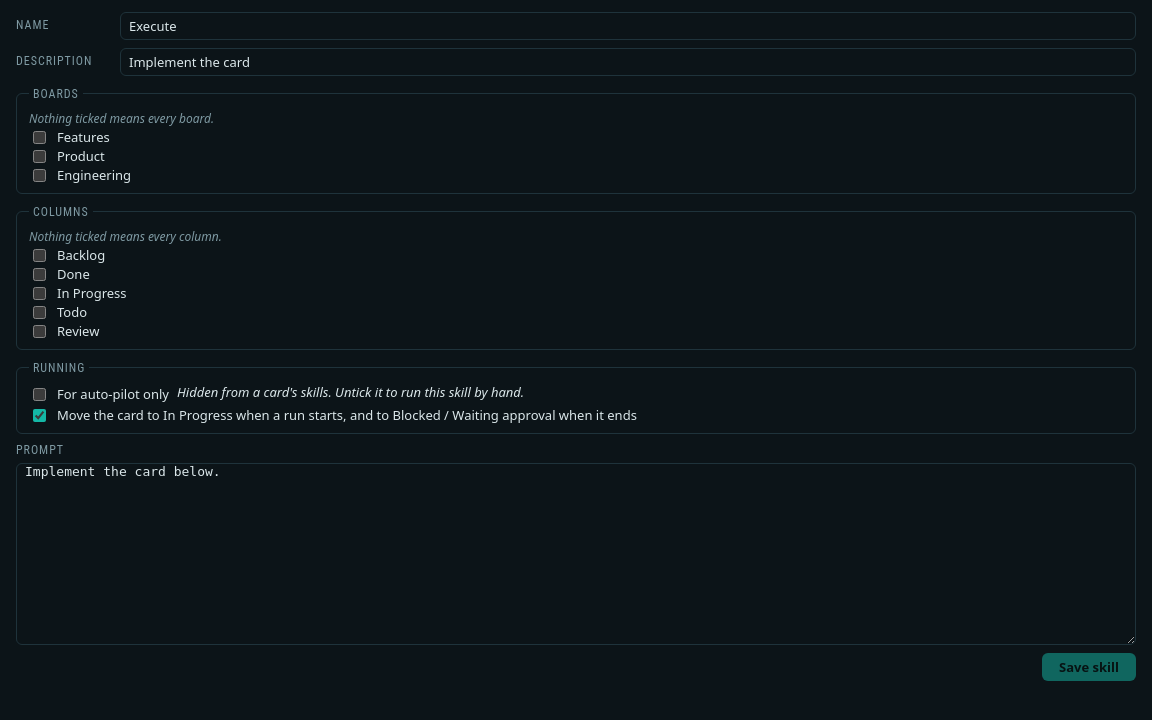
Test: SkillEditor › narrows the columns to the boards that are ticked
The width and height of the screenshot is (1152, 720).
Click the checkbox labelled "Product": (40, 156) x1=33 y1=150 x2=46 y2=163
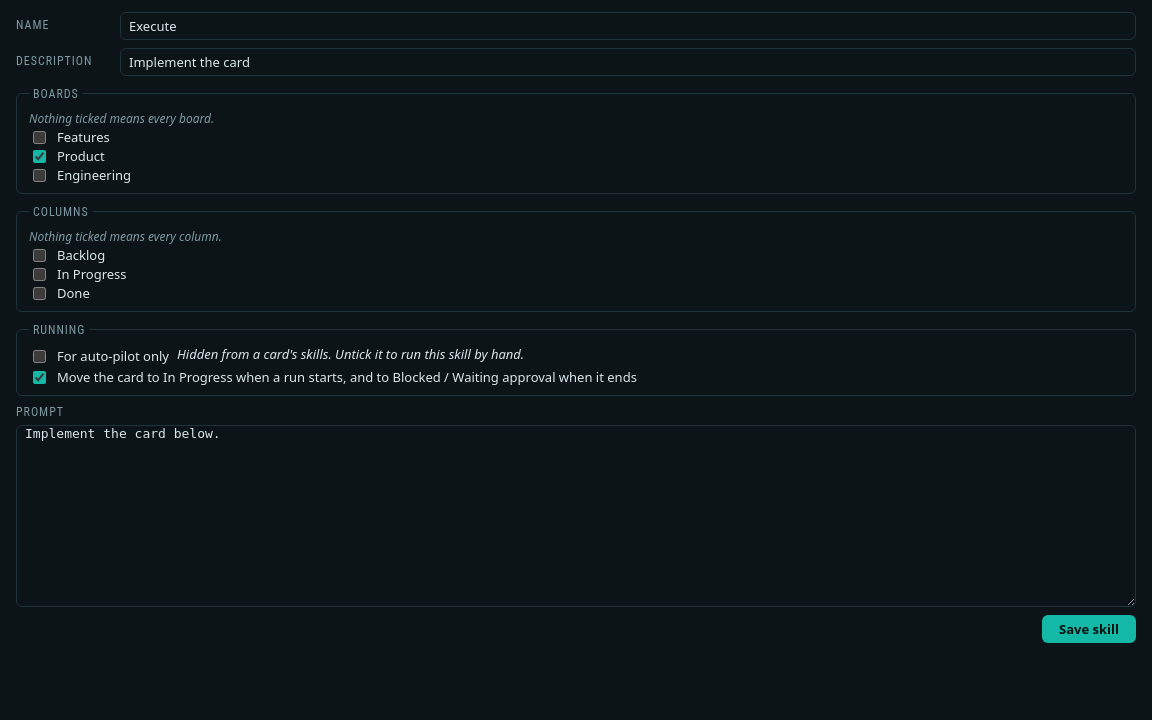
expect the text "In Progress" is shown: met, box x1=57 y1=265 x2=127 y2=283
expect the text "Review" is gone: met
